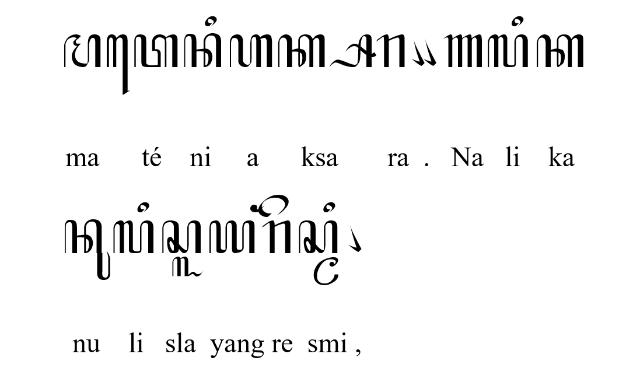N: (443, 34, 482, 68)
_l: (172, 256, 204, 278)
_m: (312, 256, 340, 286)
_s: (328, 33, 377, 68)
e: (258, 195, 290, 217)
e1: (106, 34, 130, 96)
h: (229, 34, 273, 70)
i: (136, 201, 150, 214), (322, 201, 336, 213), (511, 15, 524, 27), (204, 15, 216, 27)
k: (277, 32, 325, 68), (536, 34, 584, 68)
kom: (422, 38, 436, 68), (410, 39, 424, 66), (348, 226, 362, 252)
l: (487, 33, 529, 68), (113, 220, 155, 254)
m: (63, 33, 101, 67)
n: (184, 33, 222, 68)
ng: (250, 204, 264, 213)
nu: (65, 219, 112, 281)
r: (376, 34, 406, 68), (261, 220, 291, 254)
s: (160, 220, 202, 254), (298, 220, 338, 254)
t: (134, 34, 178, 68)
y: (208, 220, 256, 254)
